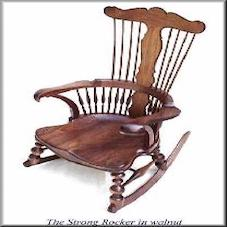chair: (17, 4, 198, 211)
